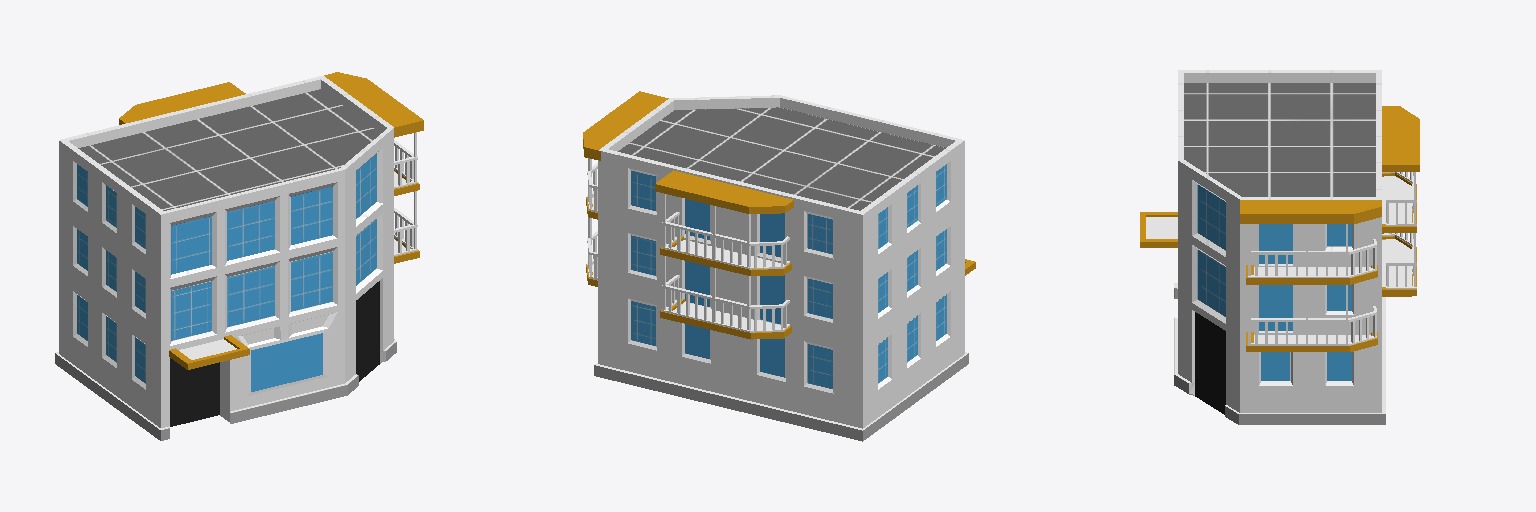
The picture shows the model from 3 angles: view 1: azimuth 30°, elevation 25°; view 2: azimuth 150°, elevation 25°; view 3: azimuth 270°, elevation 25°; orthographic projection.
Parts seen in each view (by area): view 1: Cube, Cube.006_Cube.012, Cube.010_Cube.016, Cube.008_Cube.014; view 2: Cube, Cube.008_Cube.014, Cube.006_Cube.012, Cube.010_Cube.016; view 3: Cube, Cube.010_Cube.016, Cube.006_Cube.012, Cube.008_Cube.014.
Part boxes in pixels (bbox=[...]): Cube: bbox=[55, 76, 396, 440]; Cube.006_Cube.012: bbox=[119, 72, 423, 137]; Cube.010_Cube.016: bbox=[169, 170, 419, 369]; Cube.008_Cube.014: bbox=[394, 132, 417, 255]; Cube: bbox=[594, 95, 968, 441]; Cube.008_Cube.014: bbox=[587, 158, 789, 332]; Cube.006_Cube.012: bbox=[583, 91, 793, 213]; Cube.010_Cube.016: bbox=[586, 197, 975, 339]; Cube: bbox=[1174, 70, 1385, 424]; Cube.010_Cube.016: bbox=[1140, 173, 1416, 351]; Cube.006_Cube.012: bbox=[1240, 106, 1419, 223]; Cube.008_Cube.014: bbox=[1248, 172, 1416, 345].
Bounding box in the file's own units: 14.62 × 10.77 × 11.93.
1 materials, 1 textured.